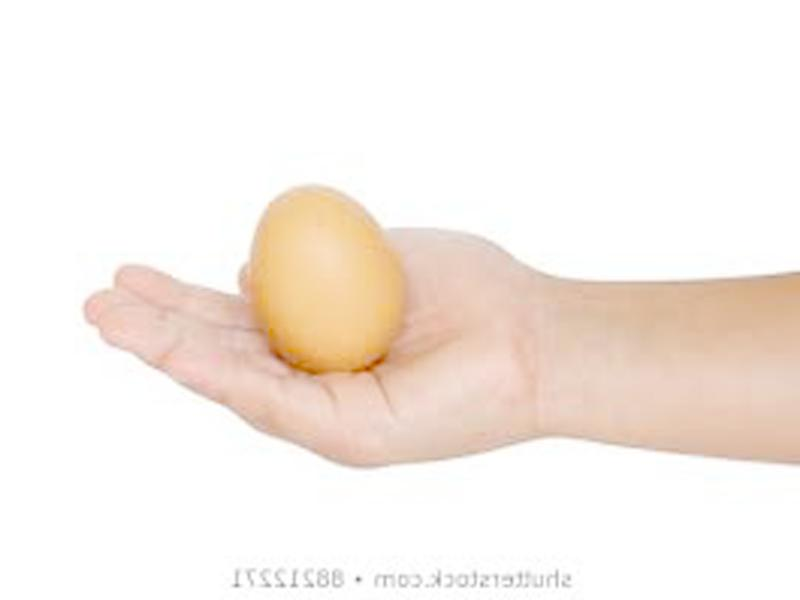Eggs: (250, 183, 404, 376)
